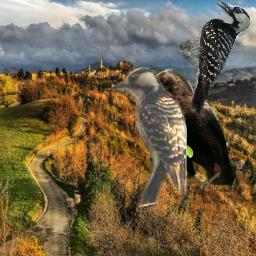Crow: (142, 68, 236, 195)
Woodpecker: (112, 67, 187, 207), (180, 0, 252, 117)
